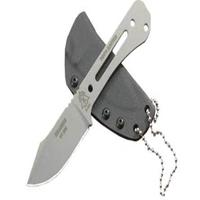knife: (26, 1, 146, 190)
